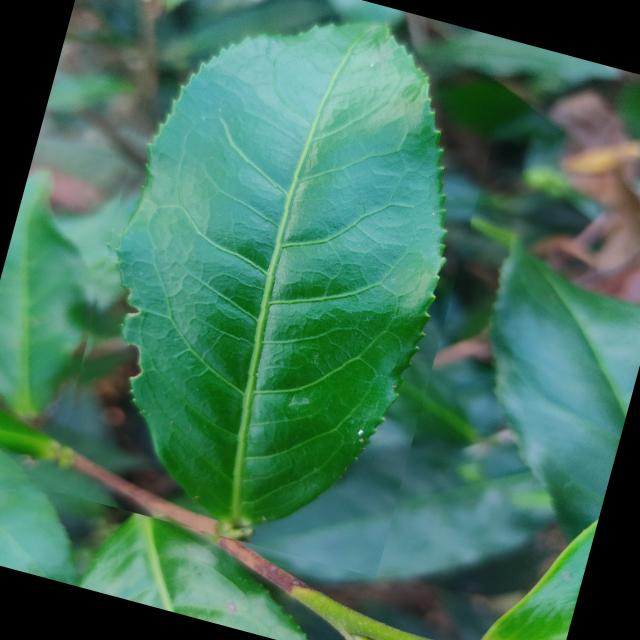Category D(7+ days, Not for Tea): (35, 0, 518, 577)
